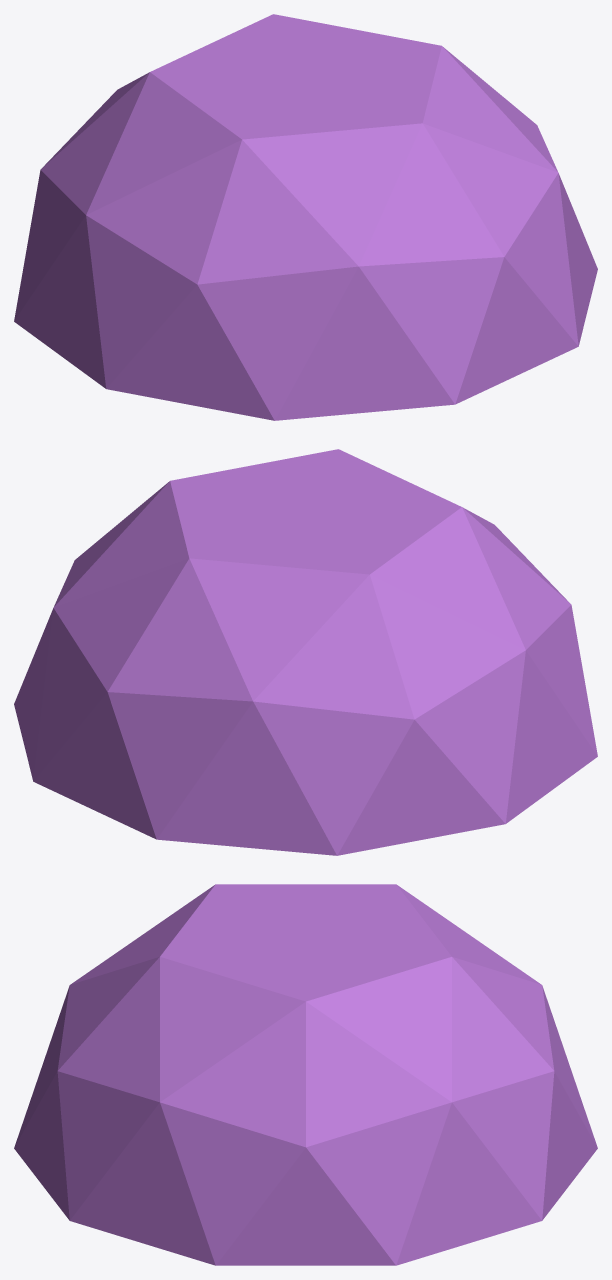
The model's file is gem_garnet.glb.
3 views of the same model, one above another, from view 1: azimuth 30°, elevation 25°; view 2: azimuth 150°, elevation 25°; view 3: azimuth 270°, elevation 25° (orthographic). The views are drawn at different scales.
Parts seen in each view (by area): view 1: GeodesicGem; view 2: GeodesicGem; view 3: GeodesicGem.
Part boxes in pixels (x1,y1,x2,y2): GeodesicGem: [14, 14, 597, 420]; GeodesicGem: [14, 449, 597, 855]; GeodesicGem: [14, 884, 597, 1265].
Bounding box in the file's own units: 1.9 × 0.8 × 2.
